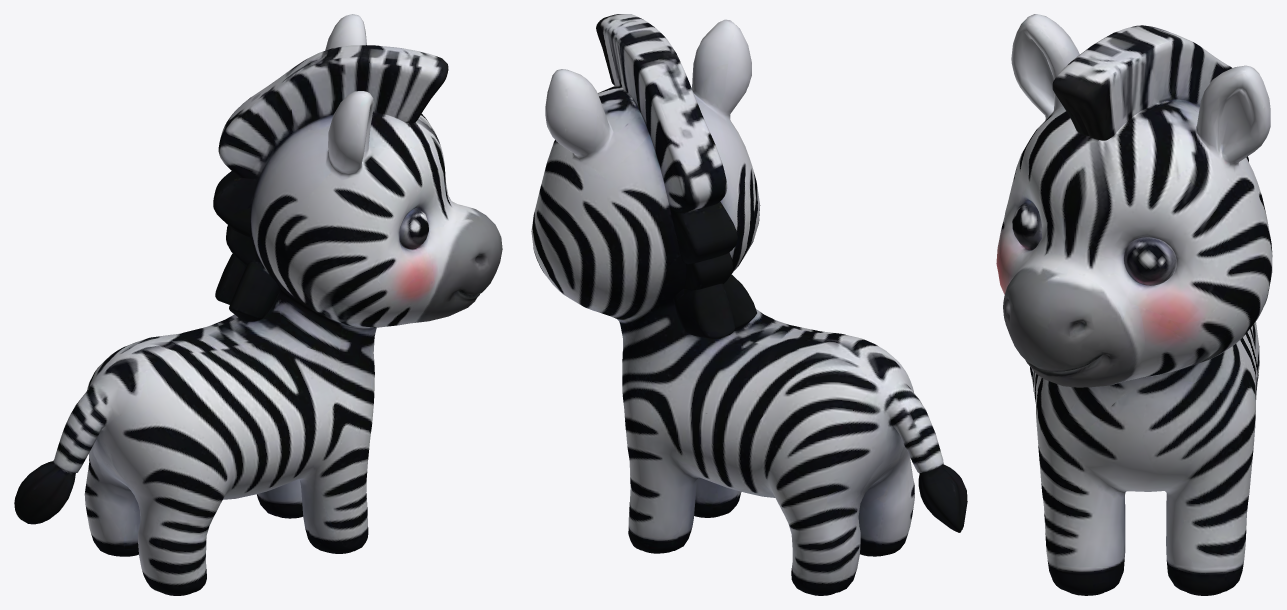
The model's file is animal_zebra.glb.
3 renders of one model, left to right at view 1: azimuth 30°, elevation 25°; view 2: azimuth 150°, elevation 25°; view 3: azimuth 270°, elevation 25°, orthographic. The views are drawn at different scales.
Parts seen in each view (by area): view 1: node_0; view 2: node_0; view 3: node_0.
Boxes of the visible parts, bbox=[...] form: node_0: bbox=[14, 14, 502, 595]; node_0: bbox=[531, 14, 967, 595]; node_0: bbox=[996, 14, 1272, 595].
Bounding box in the file's own units: 0.9284 × 0.9637 × 0.4203.
Materials: 1 (1 with a texture image).
